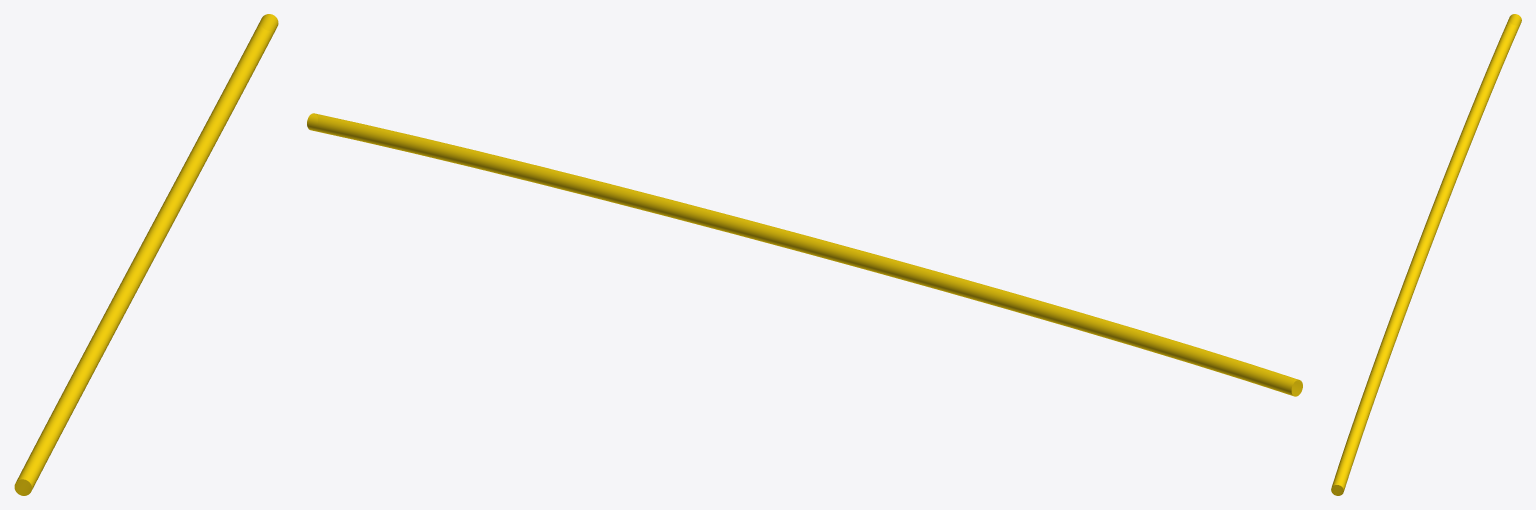
File: Event_421115418_track_61.fbx
3 views of the same model, side by side, from view 1: azimuth 90°, elevation 25°; view 2: azimuth 150°, elevation 25°; view 3: azimuth 270°, elevation 25° (orthographic). The views are drawn at different scales.
Parts seen in each view (by area): view 1: Model; view 2: Model; view 3: Model.
Boxes of the visible parts, left/top/right/bottom form: Model: left=14, top=14, right=278, bottom=495; Model: left=307, top=113, right=1302, bottom=396; Model: left=1331, top=14, right=1521, bottom=495.
Bounding box in the file's own units: 2.94 × 0.2678 × 0.5865.
